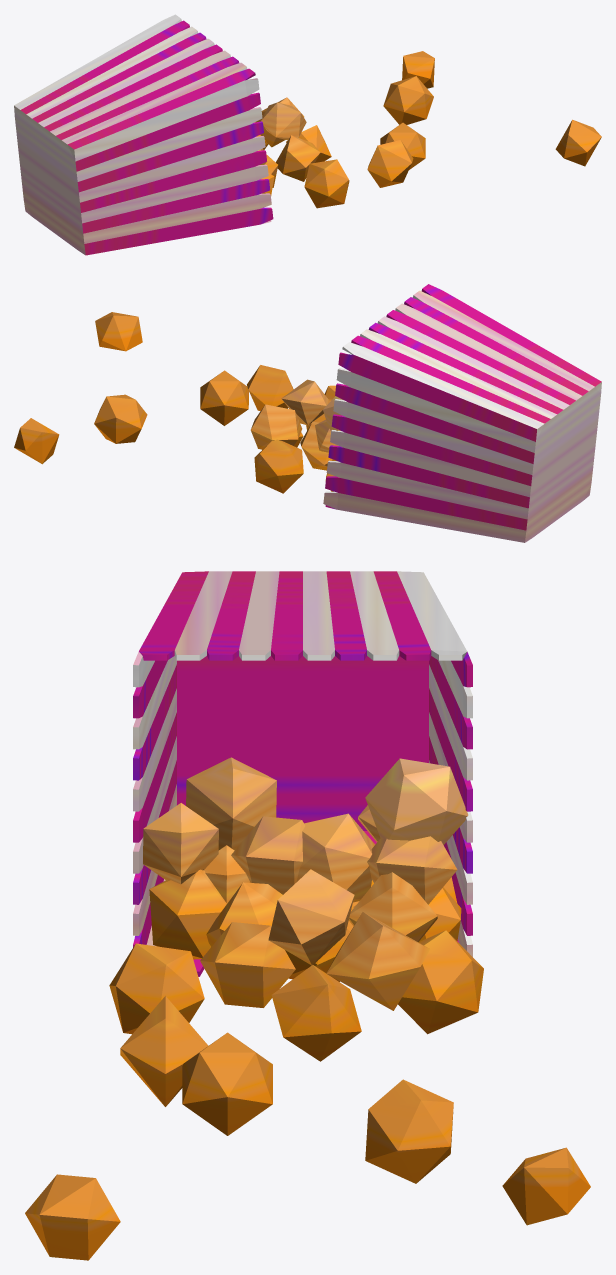
The model's file is popcorn.glb.
The picture shows the model from 3 angles, top to bottom: view 1: azimuth 30°, elevation 25°; view 2: azimuth 150°, elevation 25°; view 3: azimuth 270°, elevation 25°; orthographic projection. The views are drawn at different scales.
Parts seen in each view (by area): view 1: Popcorn; view 2: Popcorn; view 3: Popcorn.
Boxes of the visible parts, bbox=[...] form: Popcorn: bbox=[14, 14, 601, 255]; Popcorn: bbox=[14, 284, 601, 542]; Popcorn: bbox=[25, 571, 590, 1260].
Size of the model in its own units: 1.66 by 0.491 by 0.823.
Materials: 1 (1 with a texture image).
